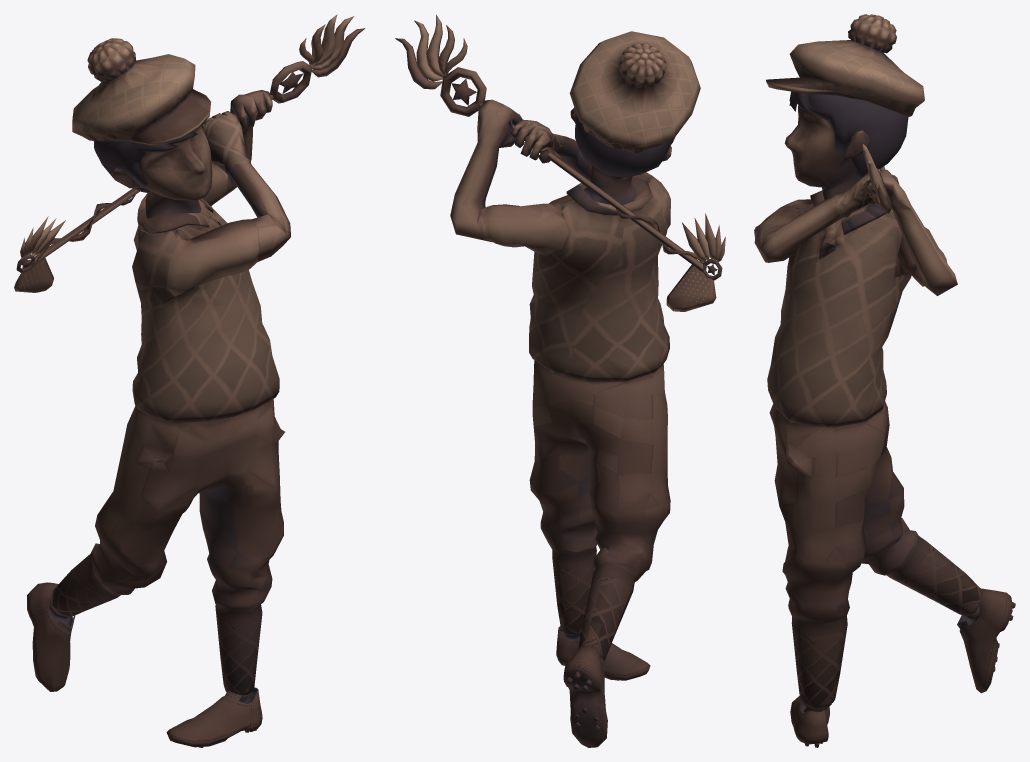
File: golf_swing_pose1.glb
3 renders of one model, left to right at view 1: azimuth 30°, elevation 25°; view 2: azimuth 150°, elevation 25°; view 3: azimuth 270°, elevation 25°, orthographic. The views are drawn at different scales.
Visible parts, largest first — view 1: M_golfcraft_color; view 2: M_golfcraft_color; view 3: M_golfcraft_color.
Part boxes in pixels (x1=…): M_golfcraft_color: x1=14, y1=14, x2=365, y2=747; M_golfcraft_color: x1=395, y1=14, x2=725, y2=747; M_golfcraft_color: x1=754, y1=14, x2=1015, y2=747.
Size of the model in its own units: 1.05 by 2.01 by 0.7033.
Materials: 9 (9 with a texture image).
